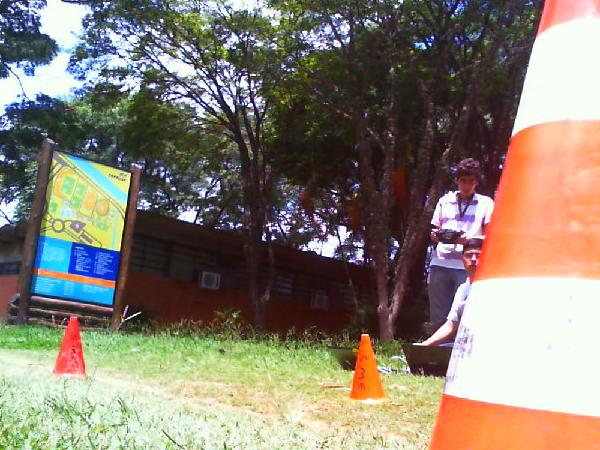0 cone: (420, 0, 600, 450), (347, 335, 391, 403), (51, 315, 89, 380)
